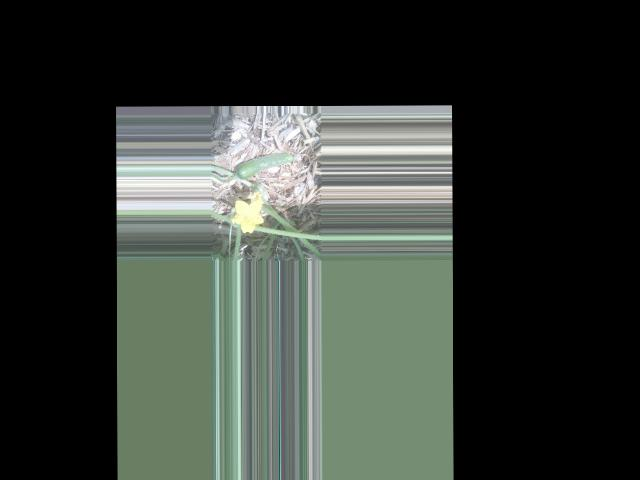cucumber: (234, 152, 299, 179)
